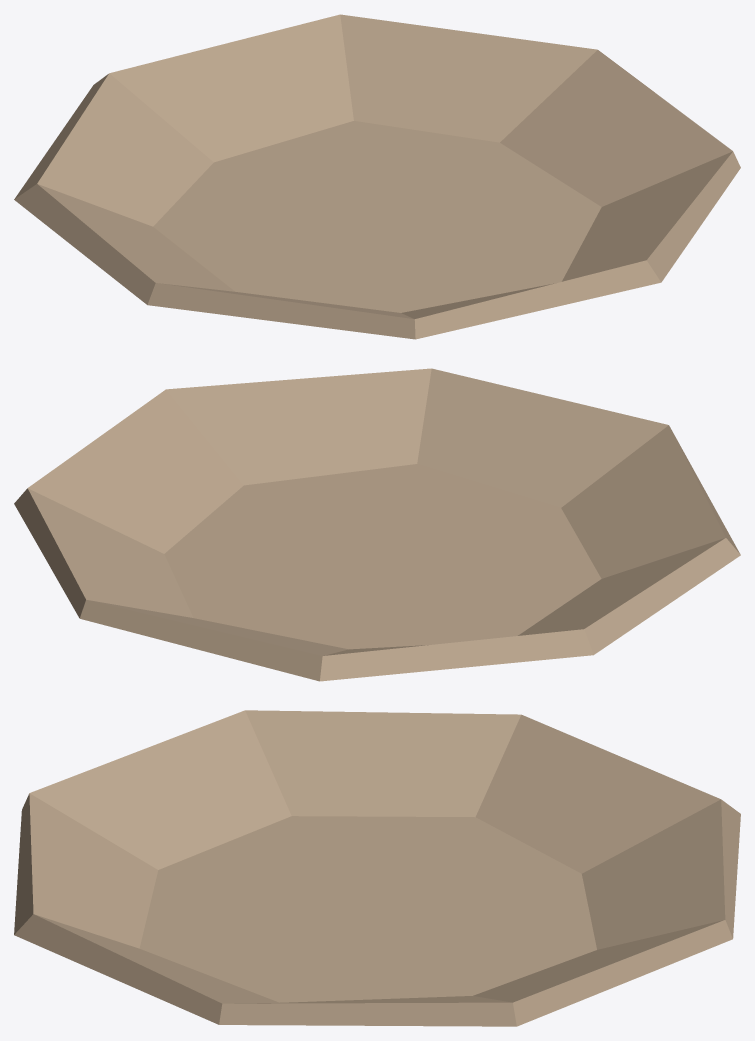
Rendered from SM_Plate_C.gltf.
3 renders of one model, top to bottom at view 1: azimuth 30°, elevation 25°; view 2: azimuth 150°, elevation 25°; view 3: azimuth 270°, elevation 25°, orthographic. The views are drawn at different scales.
Visible parts, largest first — view 1: SM_Plates_C; view 2: SM_Plates_C; view 3: SM_Plates_C.
Part boxes in pixels (left/top/right/bottom): SM_Plates_C: left=14, top=14, right=740, bottom=339; SM_Plates_C: left=14, top=368, right=740, bottom=681; SM_Plates_C: left=14, top=710, right=740, bottom=1026.
Bounding box in the file's own units: 0.3542 × 0.0409 × 0.3541.
Materials: 1 (1 with a texture image).
